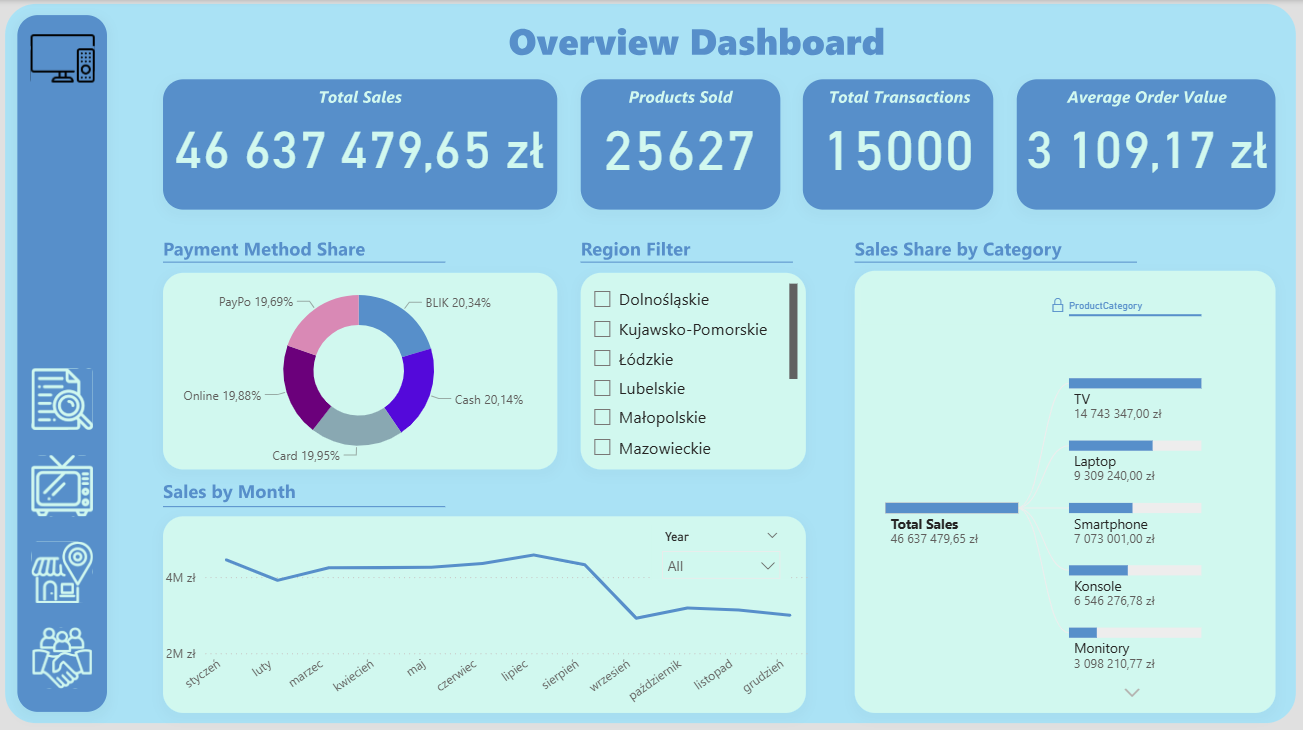

What the dashboard file says about the page in this screenshot:
{"tool":"powerbi","page":{"name":"Overview Dashboard","canvas":[1280,720],"ordinal":1},"visuals":[{"type":"card","fields":{"Values":["_Measures.Total Sales"]},"box":[161.1,97.8,386.7,86.7],"z":0},{"type":"card","fields":{"Values":["Sum(Sales_Transactions.Quantity)"]},"box":[572.2,97.8,192.2,86.7],"z":1000},{"type":"card","fields":{"Values":["_Measures.Total Transactions"]},"box":[788.9,97.8,187.8,86.7],"z":2000},{"type":"lineChart","fields":{"Y":["_Measures.Total Sales"],"Category":["Dim_Dates.Month Name"]},"box":[158.9,515.6,643.3,191.1],"z":3000},{"type":"donutChart","fields":{"Category":["Sales_Transactions.PaymentMethod"],"Y":["_Measures.Total Transactions"]},"box":[158.9,262.2,390,202.2],"z":4000},{"type":"slicer","fields":{"Values":["Dim_Stores.Region"]},"box":[572.2,273.1,216.8,182.5],"z":5000},{"type":"card","fields":{"Values":["_Measures.AVG Order Value"]},"box":[998.3,98.3,256.7,86.7],"z":6000},{"type":"slicer","fields":{"Values":["Dim_Dates.Year"]},"box":[640,515.6,136.7,53.3],"z":7000},{"type":"decompositionTreeVisual","fields":{"Analyze":["_Measures.Total Sales"],"ExplainBy":["Dim_Products.ProductCategory"]},"box":[840,273.3,415,446.7],"z":8000},{"type":"actionButton","box":[27.1,360,68.6,65.7],"z":9000},{"type":"actionButton","box":[27.1,441.4,68.6,74.3],"z":10000},{"type":"actionButton","box":[27.1,531.4,68.6,67.1],"z":11000},{"type":"actionButton","box":[27.1,611.4,68.6,68.6],"z":12000},{"type":"actionButton","box":[27.1,27.1,68.6,57.1],"z":13000}]}

Visuals, with their boxes in screenshot pixels (x1, y1, x2, y2), scaled from the page's 1280x720 canvas onto the 1303x731 screenshot:
card - _Measures.Total Sales: (164, 99, 558, 187)
card - Sum(Sales_Transactions.Quantity): (582, 99, 778, 187)
card - _Measures.Total Transactions: (803, 99, 994, 187)
lineChart - _Measures.Total Sales x Dim_Dates.Month Name: (162, 523, 817, 717)
donutChart - Sales_Transactions.PaymentMethod x _Measures.Total Transactions: (162, 266, 559, 471)
slicer - Dim_Stores.Region: (582, 277, 803, 463)
card - _Measures.AVG Order Value: (1016, 100, 1278, 188)
slicer - Dim_Dates.Year: (652, 523, 791, 578)
decompositionTreeVisual - _Measures.Total Sales x Dim_Products.ProductCategory: (855, 277, 1278, 730)
actionButton: (28, 366, 97, 432)
actionButton: (28, 448, 97, 524)
actionButton: (28, 540, 97, 608)
actionButton: (28, 621, 97, 690)
actionButton: (28, 28, 97, 85)
